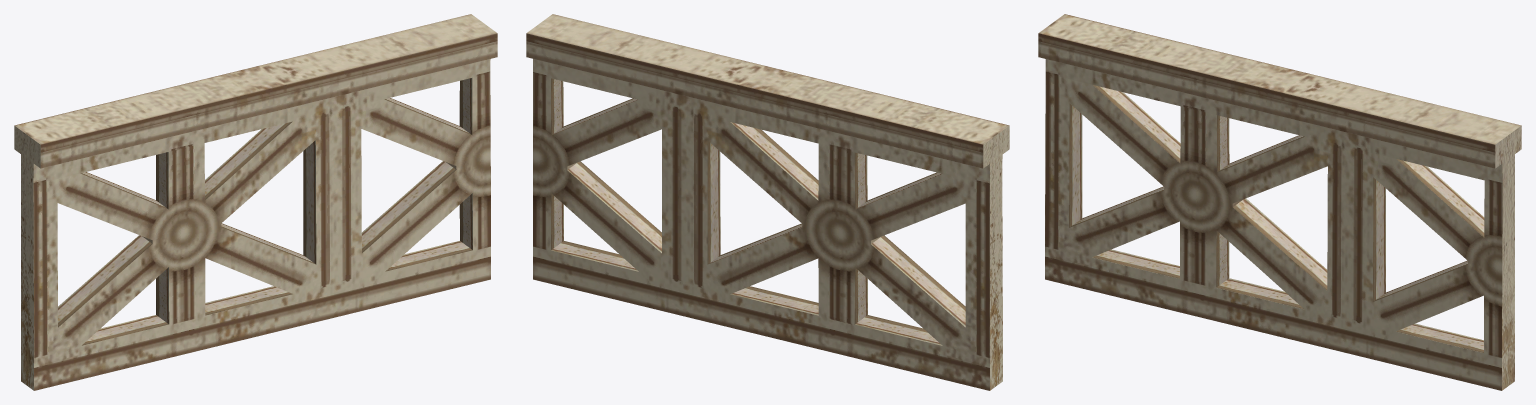
The model's file is svspartarail9.dae.
3 renders of one model, left to right at view 1: azimuth 30°, elevation 25°; view 2: azimuth 150°, elevation 25°; view 3: azimuth 330°, elevation 25°, orthographic.
Parts seen in each view (by area): view 1: unnamed_object29_cut34-0; view 2: unnamed_object29_cut34-0; view 3: unnamed_object29_cut34-0.
Part boxes in pixels (box(x1,y1,x2,y2)): unnamed_object29_cut34-0: box(14, 14, 497, 390); unnamed_object29_cut34-0: box(526, 14, 1009, 390); unnamed_object29_cut34-0: box(1038, 14, 1521, 390).
Bounding box in the file's own units: 150 × 78.75 × 15.
